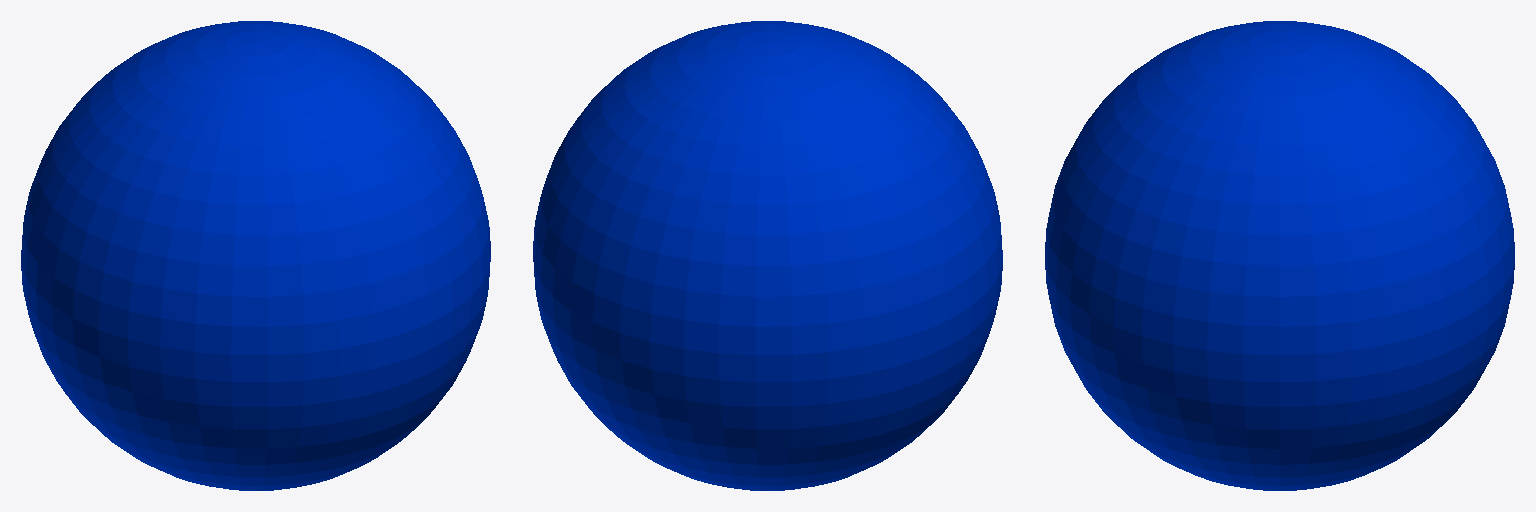
Rendered from beauteful_art.obj.
3 renders of one model, left to right at view 1: azimuth 30°, elevation 25°; view 2: azimuth 150°, elevation 25°; view 3: azimuth 270°, elevation 25°, orthographic.
Parts seen in each view (by area): view 1: Sphere; view 2: Sphere; view 3: Sphere.
Boxes of the visible parts, box(x1,y1,x2,y2) form: Sphere: box(21, 21, 490, 490); Sphere: box(533, 21, 1002, 490); Sphere: box(1045, 21, 1514, 490).
Bounding box in the file's own units: 2 × 2 × 2.